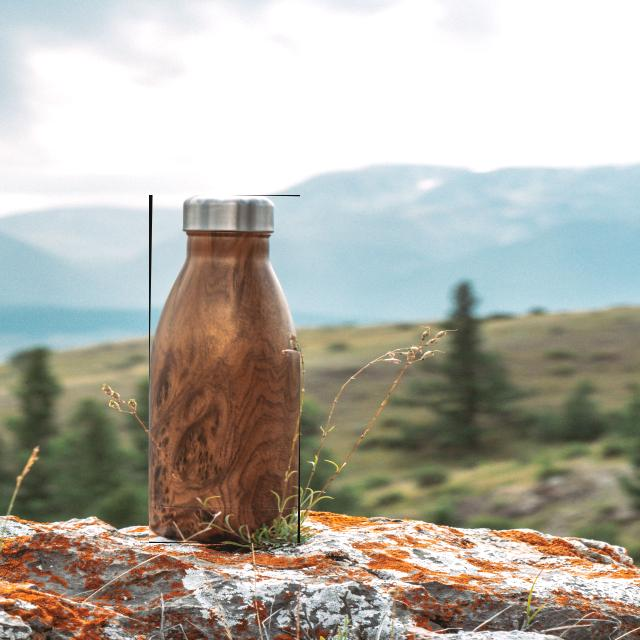Bottle: (150, 196, 300, 543)
